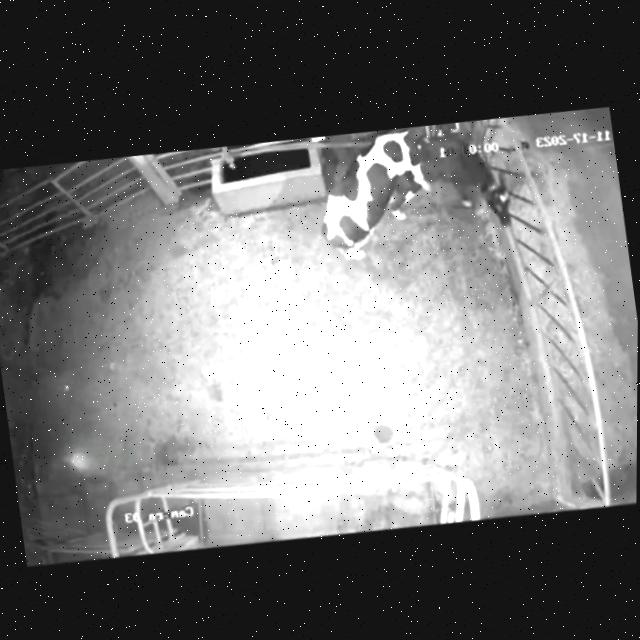ride: (303, 116, 483, 280)
stand: (413, 131, 519, 257)
